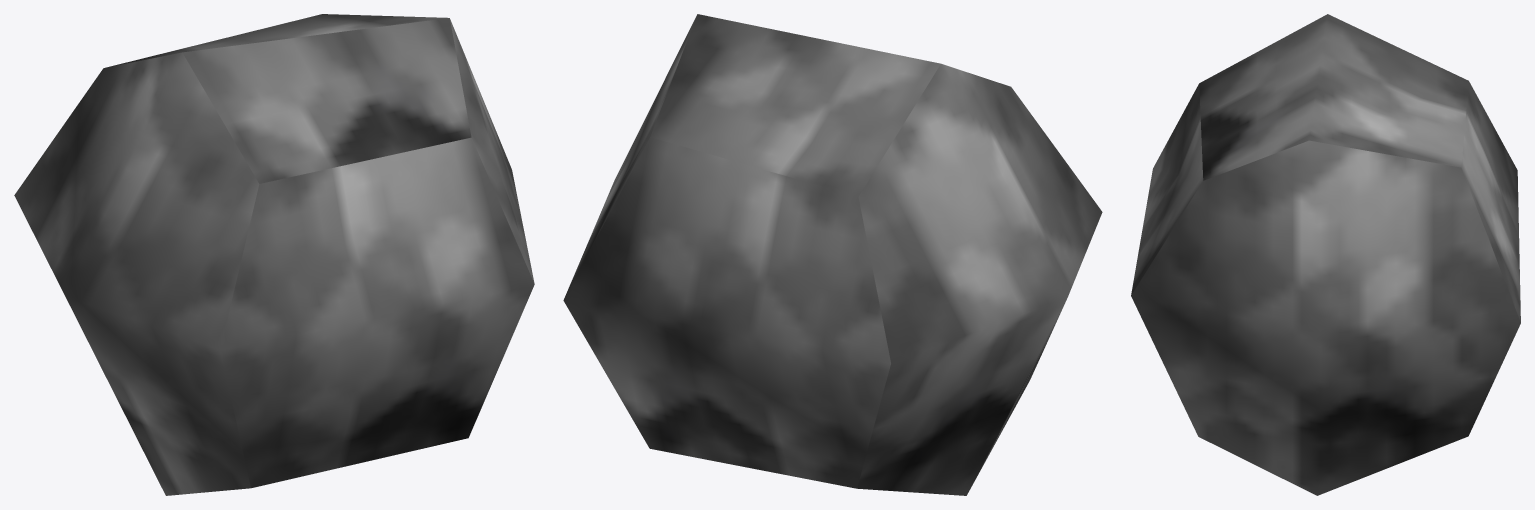
The model's file is flaxseedBreadDough.glb.
3 renders of one model, left to right at view 1: azimuth 30°, elevation 25°; view 2: azimuth 150°, elevation 25°; view 3: azimuth 270°, elevation 25°, orthographic. The views are drawn at different scales.
Visible parts, largest first — view 1: Cube; view 2: Cube; view 3: Cube.
Boxes of the visible parts, x1,y1,x2,y2 form: Cube: (14, 14, 534, 495); Cube: (563, 14, 1102, 495); Cube: (1131, 14, 1520, 495).
Size of the model in its own units: 0.4666 by 0.4325 by 0.401.
Materials: 1 (1 with a texture image).
